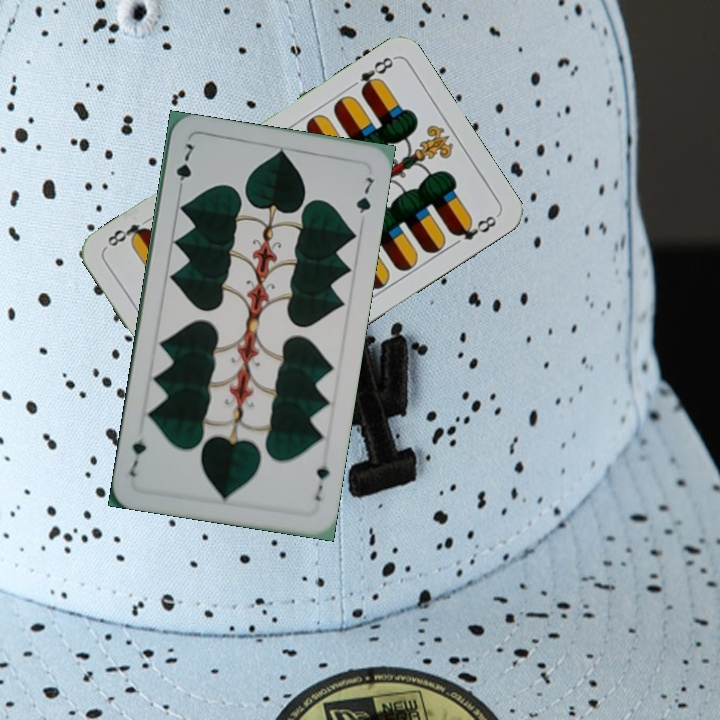E8: (355, 52, 397, 96)
G7: (172, 139, 196, 197), (310, 461, 332, 503)
